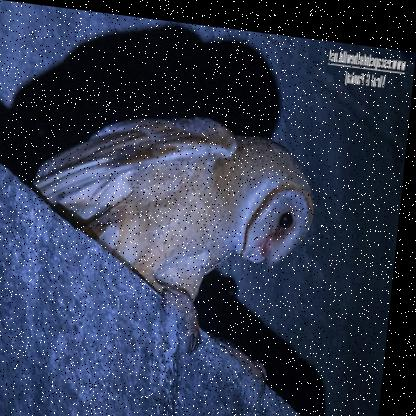Burung: (36, 97, 327, 303)
